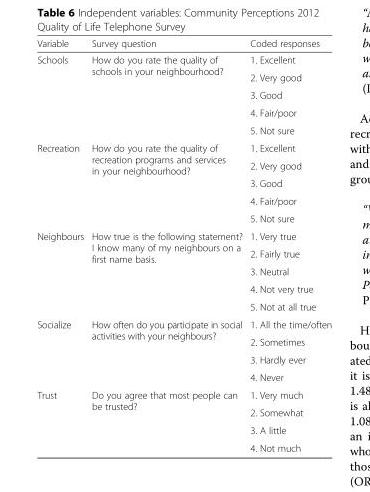table: (36, 37, 331, 453)
table column: (87, 37, 245, 453), (245, 37, 331, 453), (36, 37, 87, 453)
table column header: (36, 37, 331, 51)
table row: (36, 85, 331, 103), (36, 103, 331, 121), (36, 138, 331, 156), (36, 156, 331, 174), (36, 191, 331, 209), (36, 209, 331, 227), (36, 244, 331, 262), (36, 279, 331, 297), (36, 297, 331, 315), (36, 332, 331, 350), (36, 350, 331, 368), (36, 385, 331, 403), (36, 403, 331, 421), (36, 51, 331, 68), (36, 68, 331, 85), (36, 121, 331, 138), (36, 174, 331, 191), (36, 227, 331, 244), (36, 262, 331, 279), (36, 315, 331, 332), (36, 368, 331, 385), (36, 421, 331, 438), (36, 438, 331, 453), (36, 37, 331, 51)
table spanning cell: (87, 138, 245, 227), (87, 227, 245, 315), (87, 51, 245, 138), (87, 315, 245, 385), (87, 385, 245, 453), (36, 138, 87, 227), (36, 227, 87, 315), (36, 51, 87, 138), (36, 315, 87, 385), (36, 385, 87, 453)
